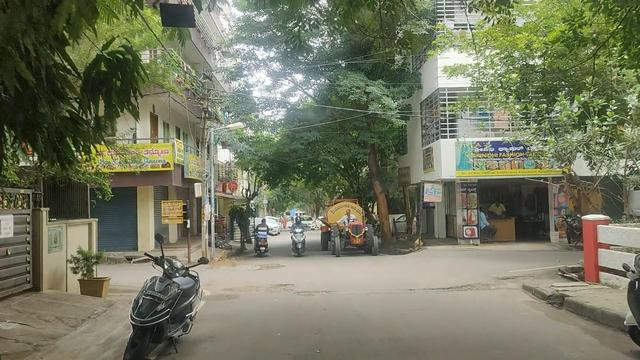HMV: (314, 192, 380, 253)
LMV: (124, 230, 208, 360), (289, 211, 312, 255), (252, 210, 274, 252)
RoadDamages: (383, 264, 513, 297), (293, 278, 340, 301), (245, 276, 296, 297), (248, 254, 294, 273)
